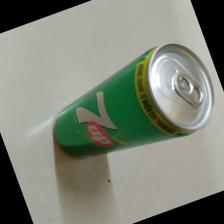7up: (52, 42, 215, 161)
